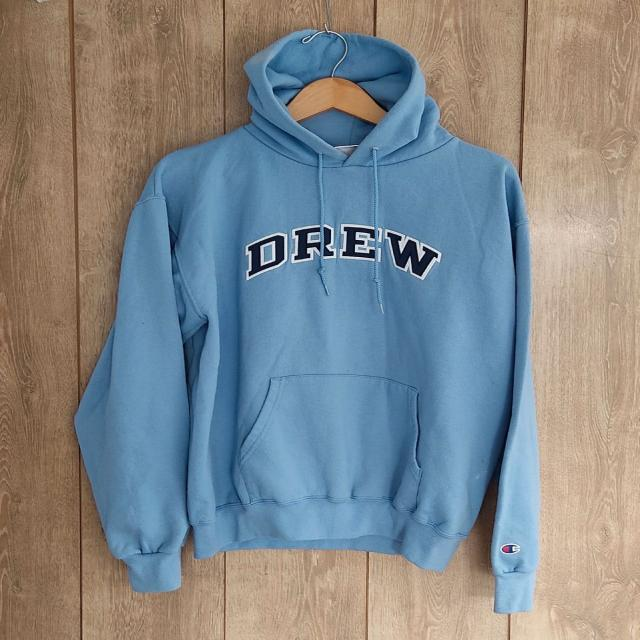sweater: (72, 25, 547, 619)
